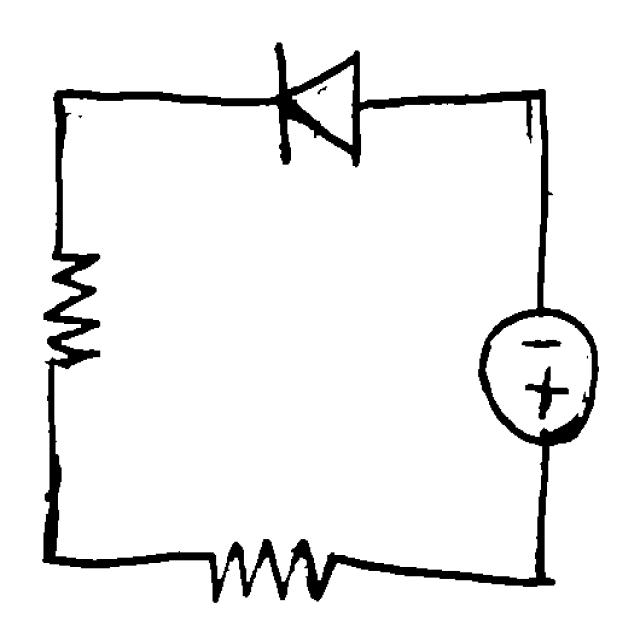dc: (474, 292, 606, 450)
diode: (256, 31, 378, 181)
resistor: (193, 524, 345, 617), (25, 229, 115, 383)
